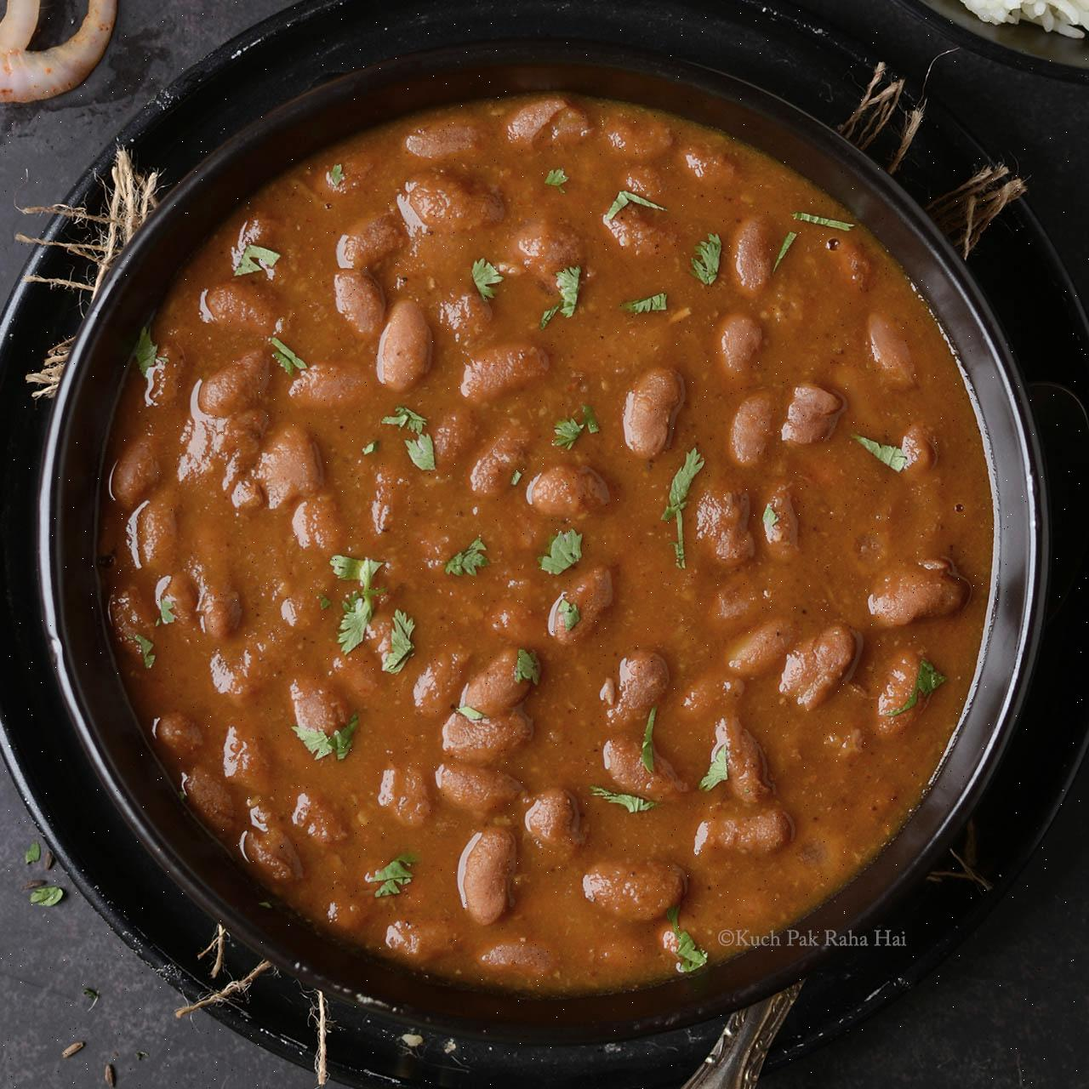rajma: (94, 51, 1001, 944)
